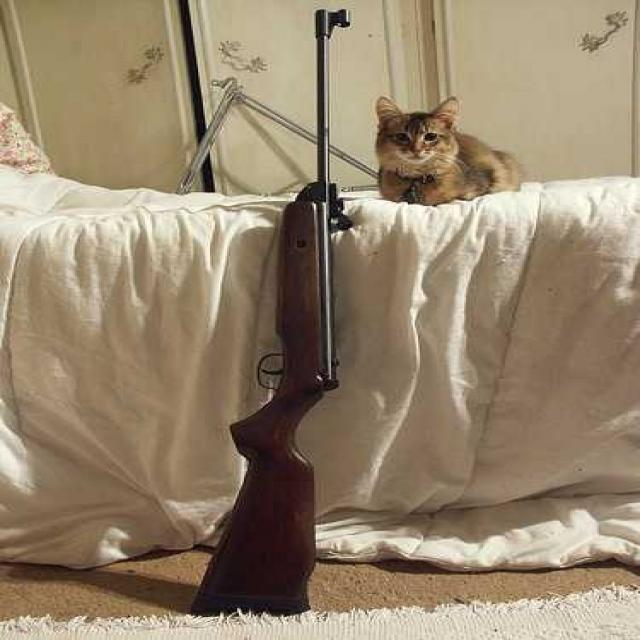weapon: (186, 4, 386, 640)
